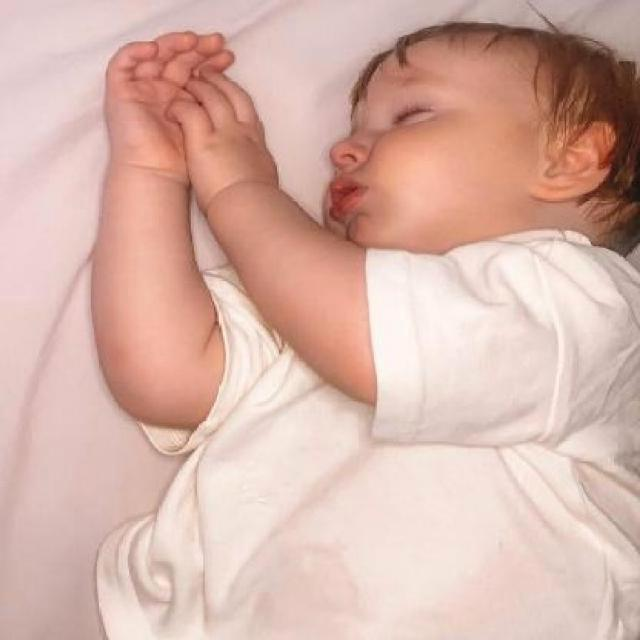child: (92, 22, 634, 442)
